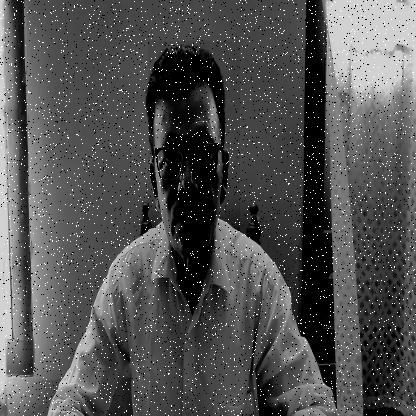Normal: (148, 41, 240, 288)
